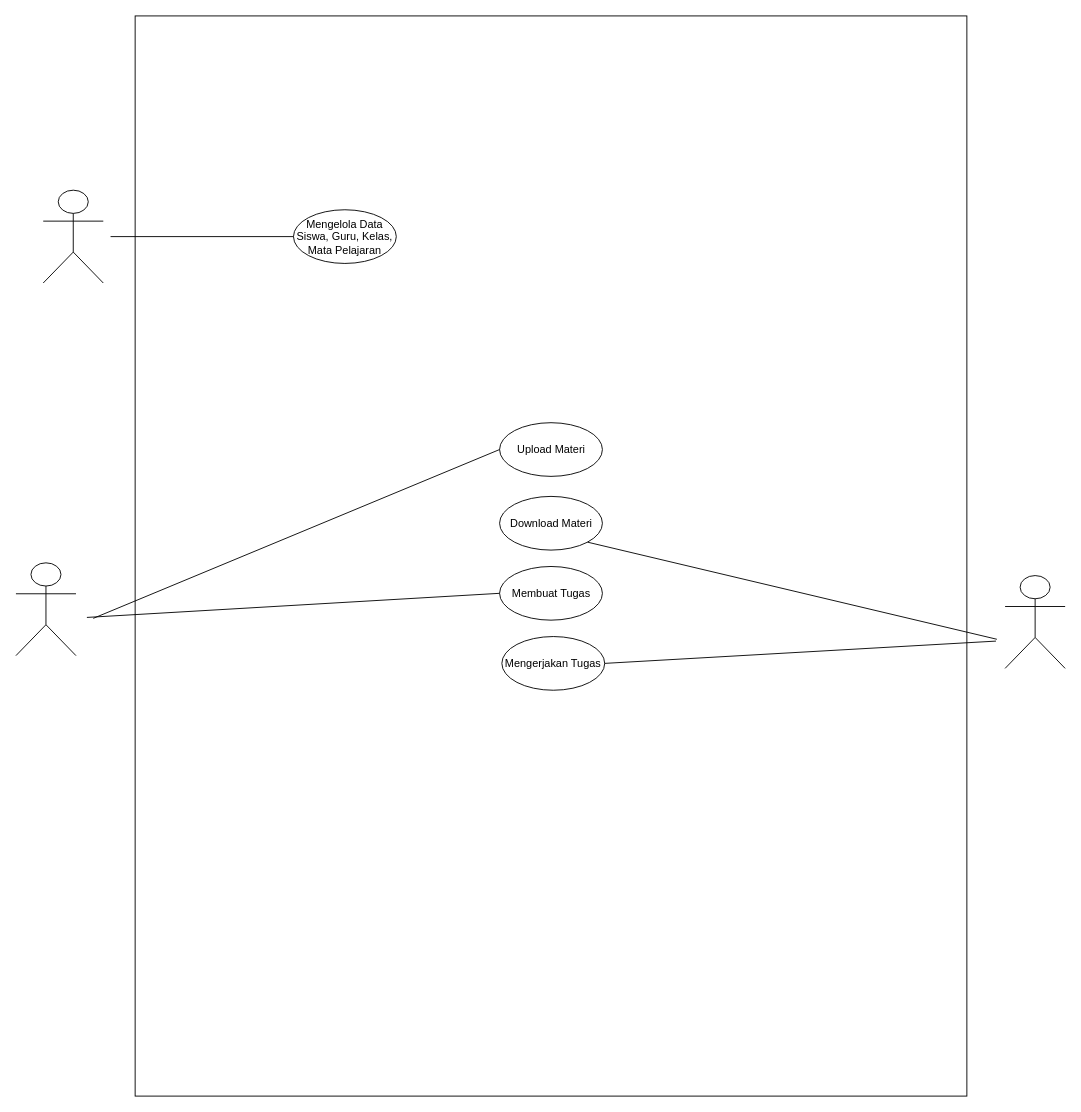
Image size: 1081x1112. Some labels were removed from this diagram. Each missing label, with the centre of its shape:
Admin: [72,236]
Guru: [45,609]
Siswa: [1034,621]
